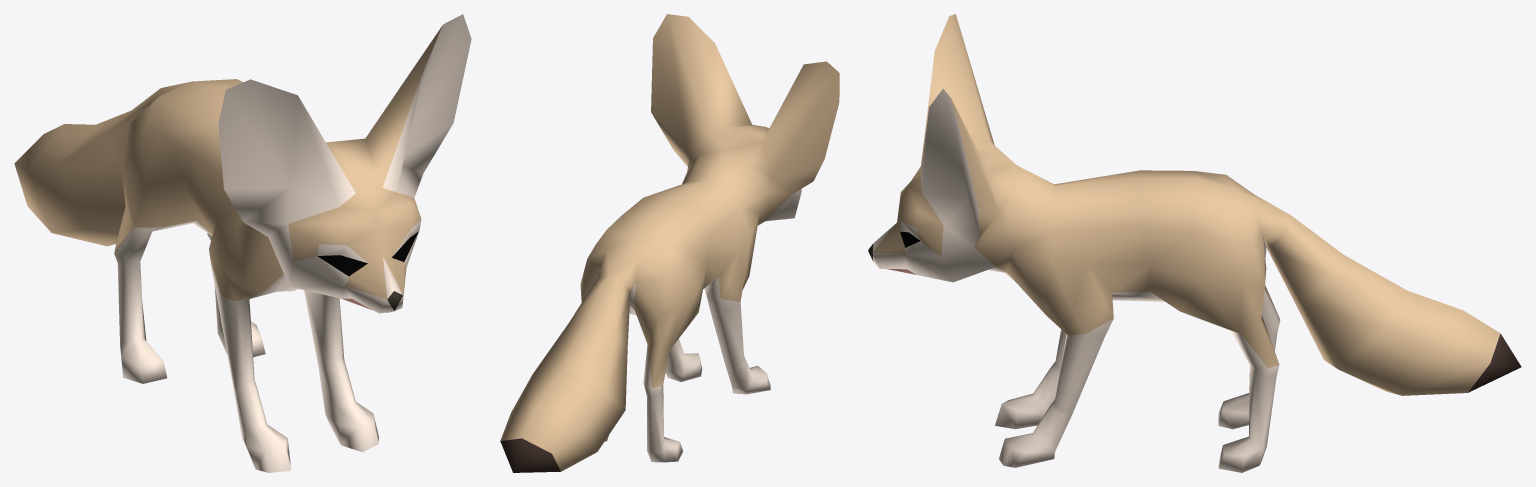
File: Fennec-Fox.dae
The picture shows the model from 3 angles, left to right: view 1: azimuth 30°, elevation 25°; view 2: azimuth 150°, elevation 25°; view 3: azimuth 270°, elevation 25°; orthographic projection. The views are drawn at different scales.
Visible parts, largest first — view 1: SketchUp (×4); view 2: SketchUp (×3); view 3: SketchUp (×3).
Boxes of the visible parts, x1,y1,x2,y2 form: SketchUp (×4): (14,14,471,472); SketchUp (×3): (500,14,839,472); SketchUp (×3): (872,14,1521,472).
Bounding box in the file's own units: 19.57 × 49.2 × 32.66.
